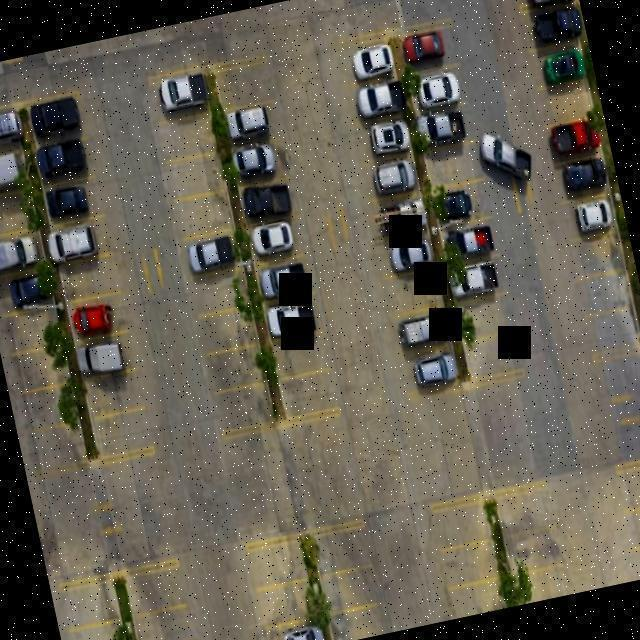space-empty: (4, 338, 74, 403), (54, 249, 126, 306), (25, 417, 89, 480), (214, 51, 278, 113), (91, 404, 156, 465), (277, 367, 342, 428), (452, 284, 517, 345), (213, 379, 277, 440), (461, 326, 525, 387), (432, 493, 493, 556), (17, 378, 81, 438), (125, 560, 189, 620), (185, 264, 253, 320), (59, 572, 120, 634), (247, 532, 309, 593), (419, 135, 485, 192), (494, 482, 556, 542), (269, 326, 331, 385), (576, 260, 635, 322), (312, 520, 374, 579), (171, 186, 233, 243), (0, 302, 63, 358), (204, 340, 267, 396), (163, 147, 226, 203), (83, 366, 147, 421), (319, 560, 381, 616), (196, 302, 259, 357), (584, 300, 640, 361), (158, 112, 219, 167), (441, 536, 502, 591), (504, 526, 566, 577), (257, 577, 317, 628), (569, 234, 627, 284), (448, 573, 507, 619), (512, 560, 572, 605), (537, 82, 595, 128), (387, 272, 444, 318), (133, 601, 197, 640), (327, 601, 387, 640), (67, 616, 128, 640), (617, 456, 640, 515), (625, 494, 640, 550)
space-occupied: (230, 128, 294, 192), (45, 212, 116, 268), (27, 88, 90, 149), (238, 170, 304, 228), (391, 303, 453, 363), (399, 18, 461, 78), (68, 287, 132, 345), (430, 175, 494, 233), (254, 249, 319, 306), (442, 250, 508, 306), (336, 30, 398, 89), (519, 0, 585, 54), (0, 261, 59, 321), (148, 69, 211, 125), (179, 227, 242, 282), (263, 290, 326, 345), (397, 346, 460, 401), (414, 99, 477, 154), (35, 136, 99, 190), (76, 329, 140, 383), (224, 101, 290, 153), (44, 178, 108, 230), (248, 217, 312, 269), (346, 75, 407, 129), (527, 39, 588, 93), (560, 193, 620, 247), (437, 216, 501, 266), (371, 193, 430, 246), (553, 156, 612, 207), (362, 153, 420, 204), (410, 69, 469, 117), (545, 119, 604, 166), (357, 117, 414, 163), (378, 235, 435, 281), (0, 223, 43, 282), (0, 148, 30, 204), (265, 612, 325, 640), (0, 105, 23, 164), (516, 0, 579, 16)
